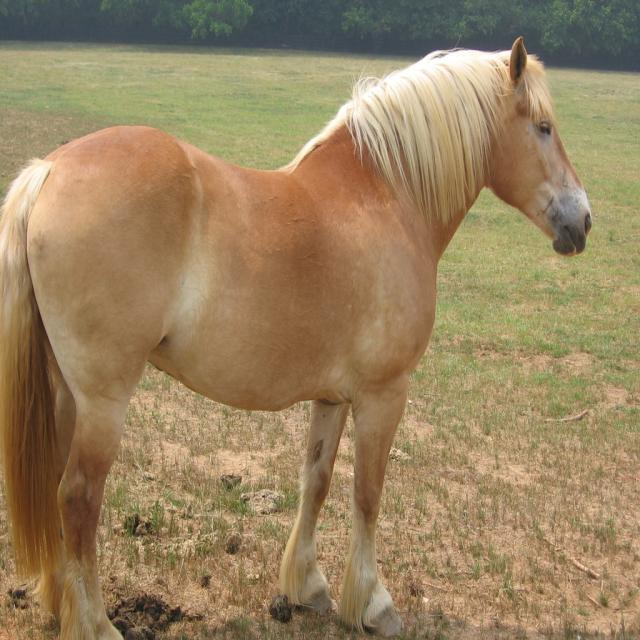Horse: (0, 33, 593, 640)
